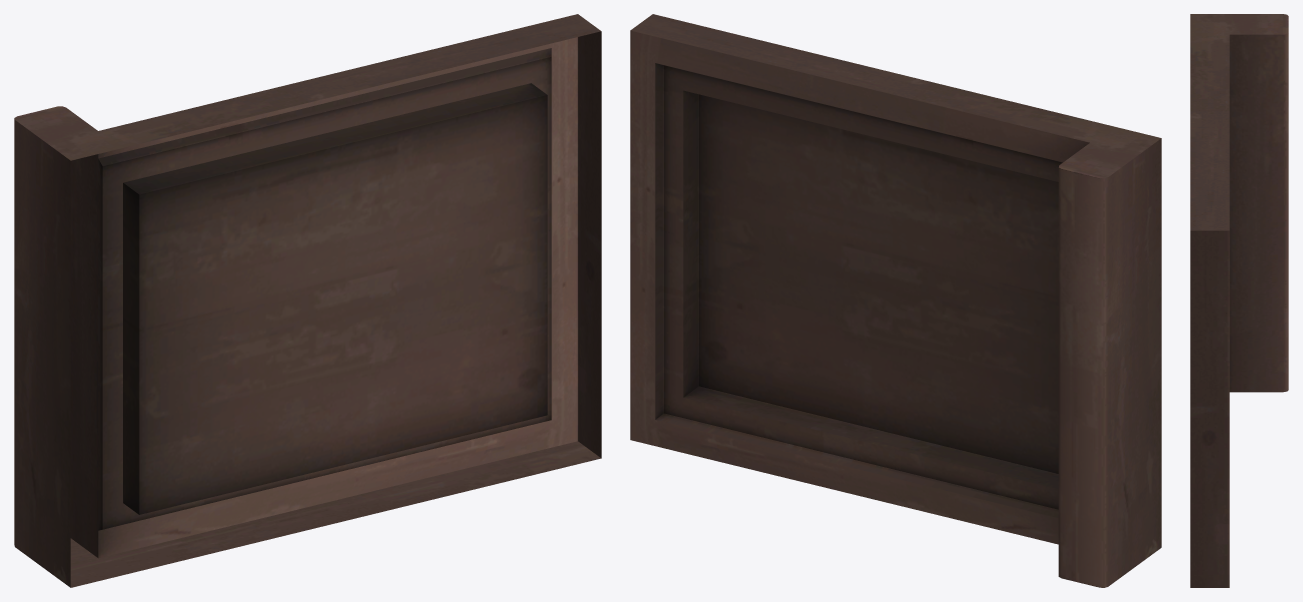
Rendered from props_coalmines_window5.glb.
3 renders of one model, left to right at view 1: azimuth 30°, elevation 25°; view 2: azimuth 150°, elevation 25°; view 3: azimuth 270°, elevation 25°, orthographic. The views are drawn at different scales.
Visible parts, largest first — view 1: models/props_coalmines/window5; view 2: models/props_coalmines/window5; view 3: models/props_coalmines/window5.
Boxes of the visible parts, <box> form: models/props_coalmines/window5: <box>14,14,601,587</box>; models/props_coalmines/window5: <box>630,14,1161,587</box>; models/props_coalmines/window5: <box>1190,14,1288,587</box>.
Size of the model in its own units: 52 by 40 by 10.
Materials: 1 (1 with a texture image).
